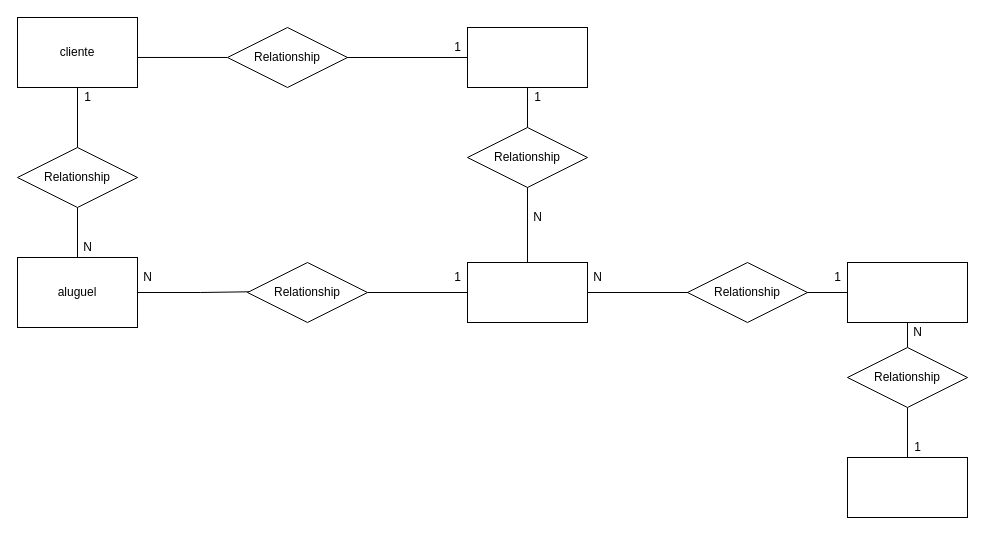
Some shapes in this 985 by 535 pixel diagram are drawn without their labels. Here are the shapes that lost their labels. From the top down, the centre of each, then its label:
point 527,57: empresa
point 527,292: carro
point 907,292: modelo
point 907,487: marca
